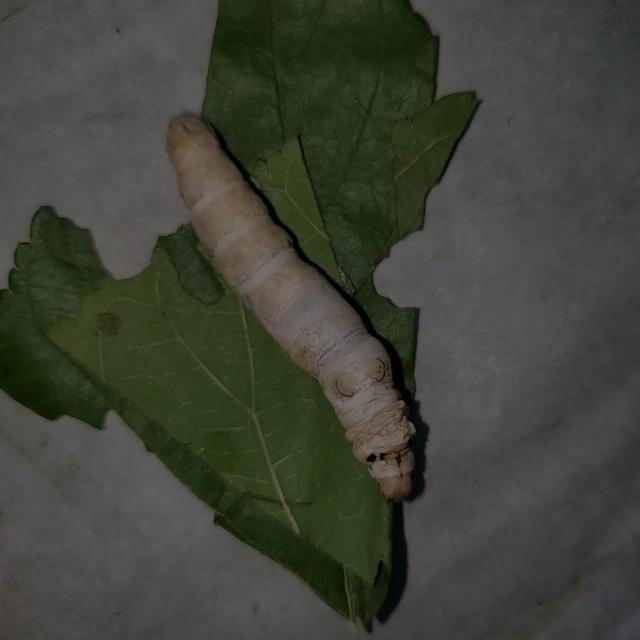Grasserie: (139, 88, 506, 541)
